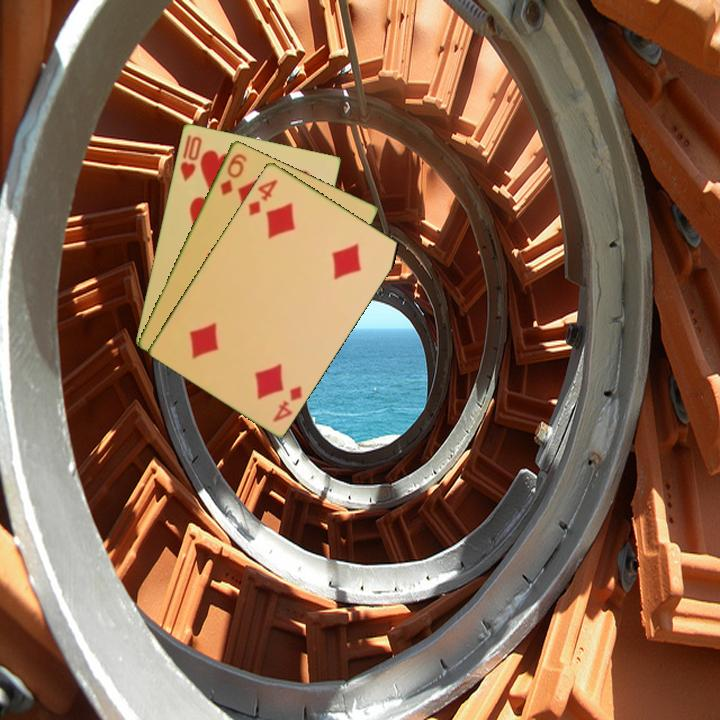10h: (176, 130, 205, 184)
4d: (269, 382, 305, 425), (245, 175, 280, 219)
6d: (216, 150, 250, 198)
